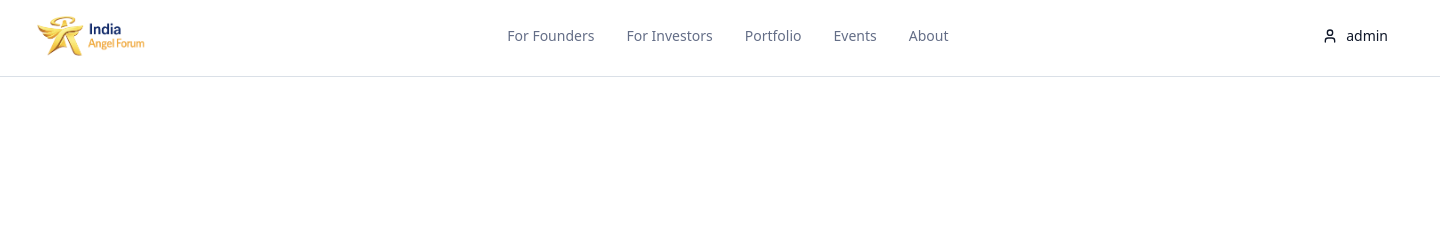
Test: Navigation Component › Authenticated Admin User › should show Admin Dashboard link in dropdown
The image size is (1440, 228).
Open dropdown
Click the button "admin" at (1355, 36), box [1306,16,1404,56]
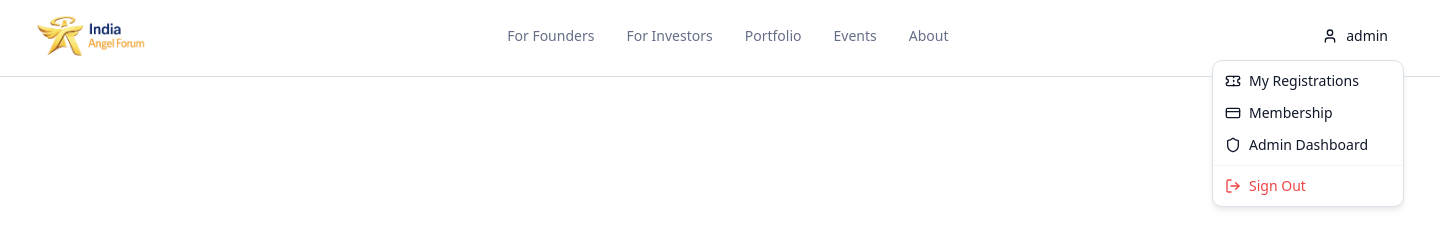
Expected: the menu item "Admin Dashboard" is shown, [1225,135,1368,154]
